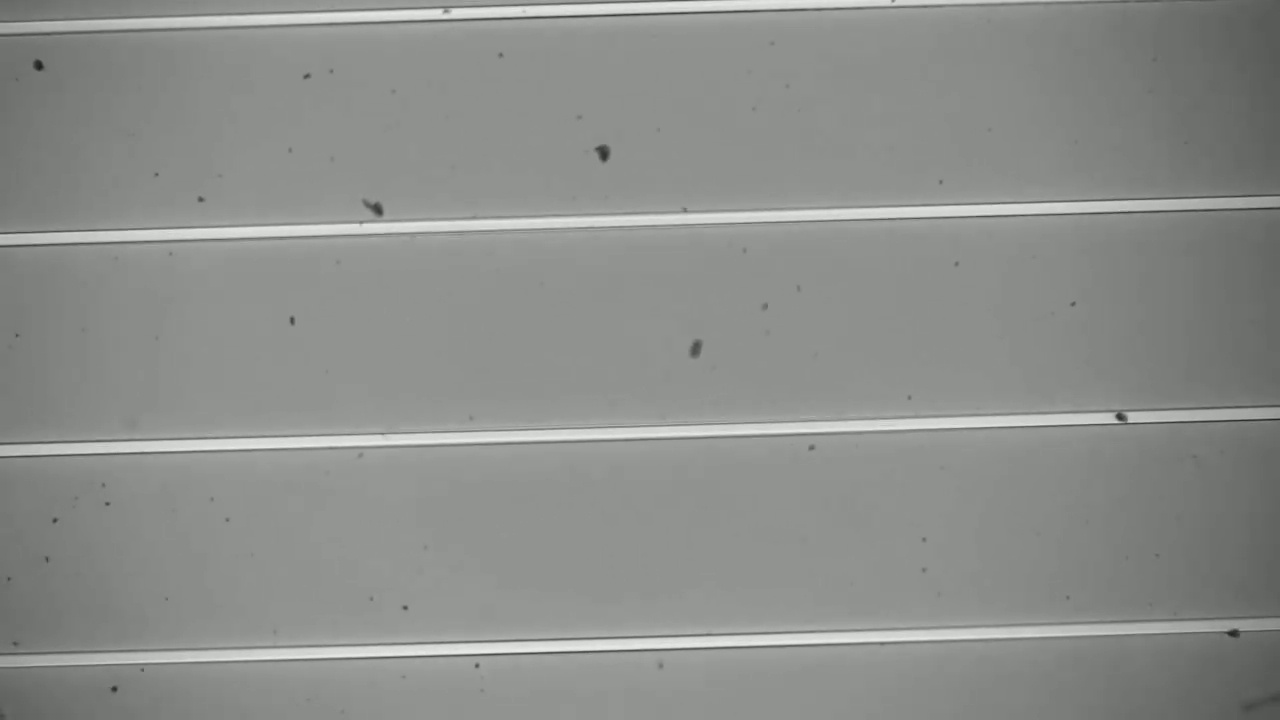stains_enbedded: (1109, 402, 1137, 432)
